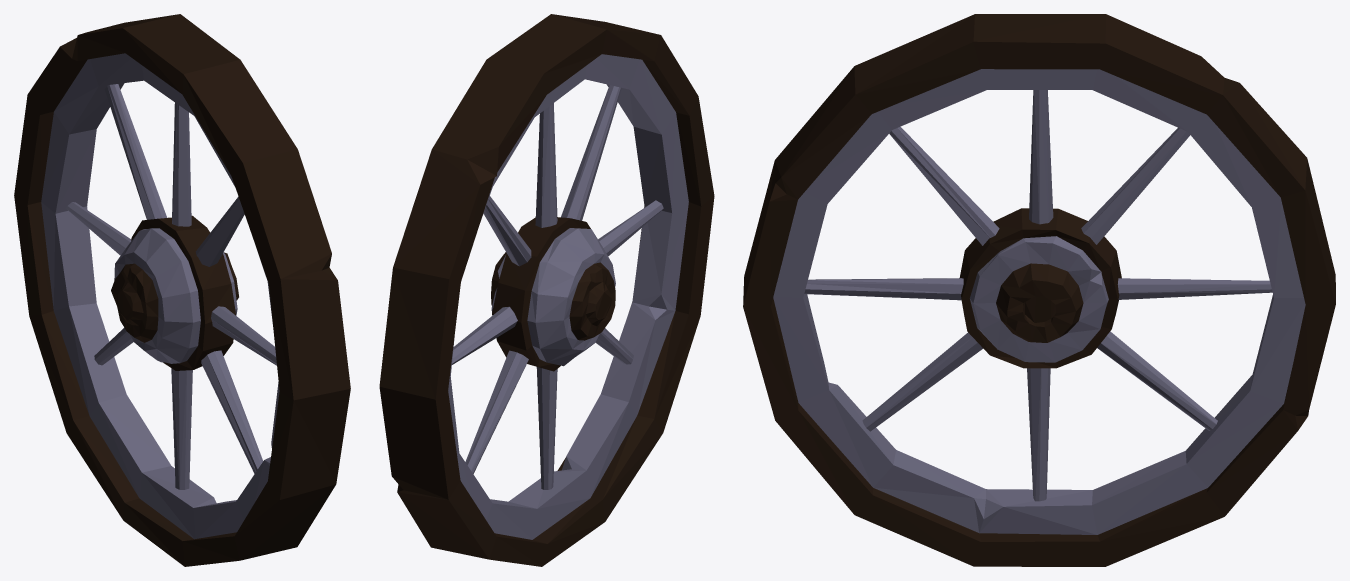
The model's file is SFFA_Wheel_002.fbx.
3 views of the same model, side by side, from view 1: azimuth 30°, elevation 25°; view 2: azimuth 150°, elevation 25°; view 3: azimuth 270°, elevation 25° (orthographic). The views are drawn at different scales.
Parts seen in each view (by area): view 1: SFFA_Wheel_002; view 2: SFFA_Wheel_002; view 3: SFFA_Wheel_002.
Boxes of the visible parts, <box> form: SFFA_Wheel_002: <box>14,14,350,566</box>; SFFA_Wheel_002: <box>379,14,714,566</box>; SFFA_Wheel_002: <box>743,14,1335,566</box>.
Size of the model in its own units: 16.91 by 79.45 by 81.33.
